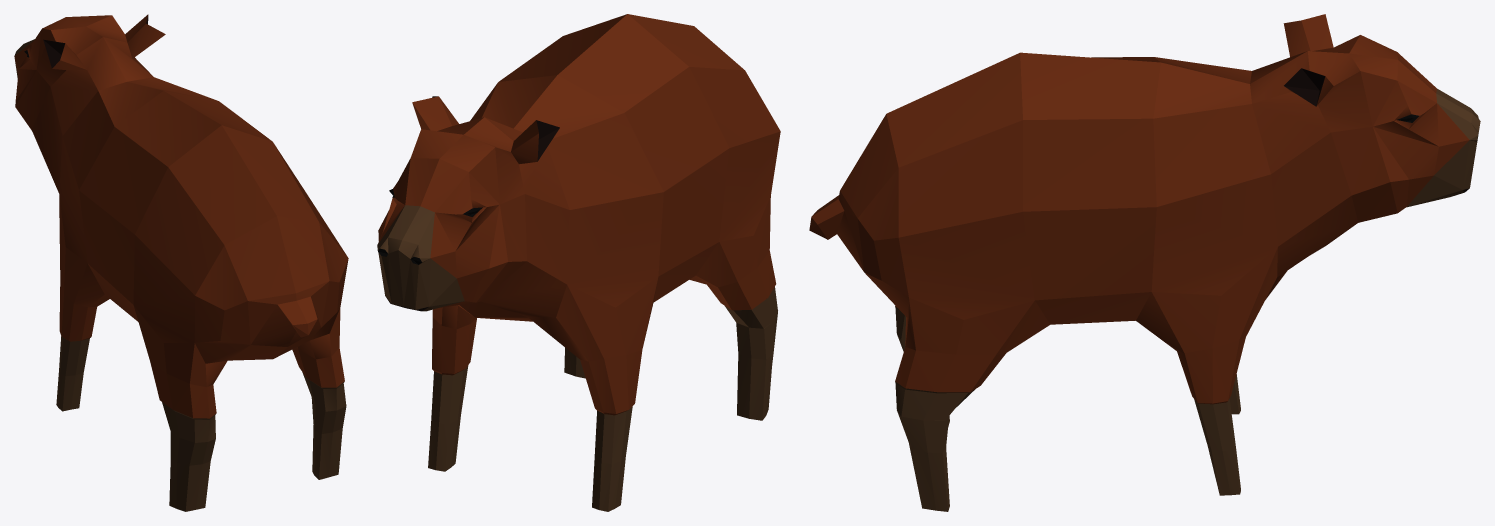
File: capybara-lowpoly.fbx
The picture shows the model from 3 angles, left to right: view 1: azimuth 30°, elevation 25°; view 2: azimuth 150°, elevation 25°; view 3: azimuth 270°, elevation 25°; orthographic projection. The views are drawn at different scales.
Parts seen in each view (by area): view 1: Group5, Group13, Group9; view 2: Group5, Group13, Group11, Group9; view 3: Group5, Group13, Group11, Group9.
Part boxes in pixels (<box>): Group5: <box>14,14,348,418</box>; Group13: <box>15,60,346,511</box>; Group9: <box>43,15,148,68</box>; Group5: <box>377,14,780,415</box>; Group13: <box>377,246,777,511</box>; Group11: <box>377,205,434,305</box>; Group9: <box>386,96,559,311</box>; Group5: <box>809,14,1469,404</box>; Group13: <box>895,135,1477,511</box>; Group11: <box>1436,88,1480,139</box>; Group9: <box>1284,68,1469,191</box>.
Size of the model in its own units: 13.77 by 26.38 by 38.21.
